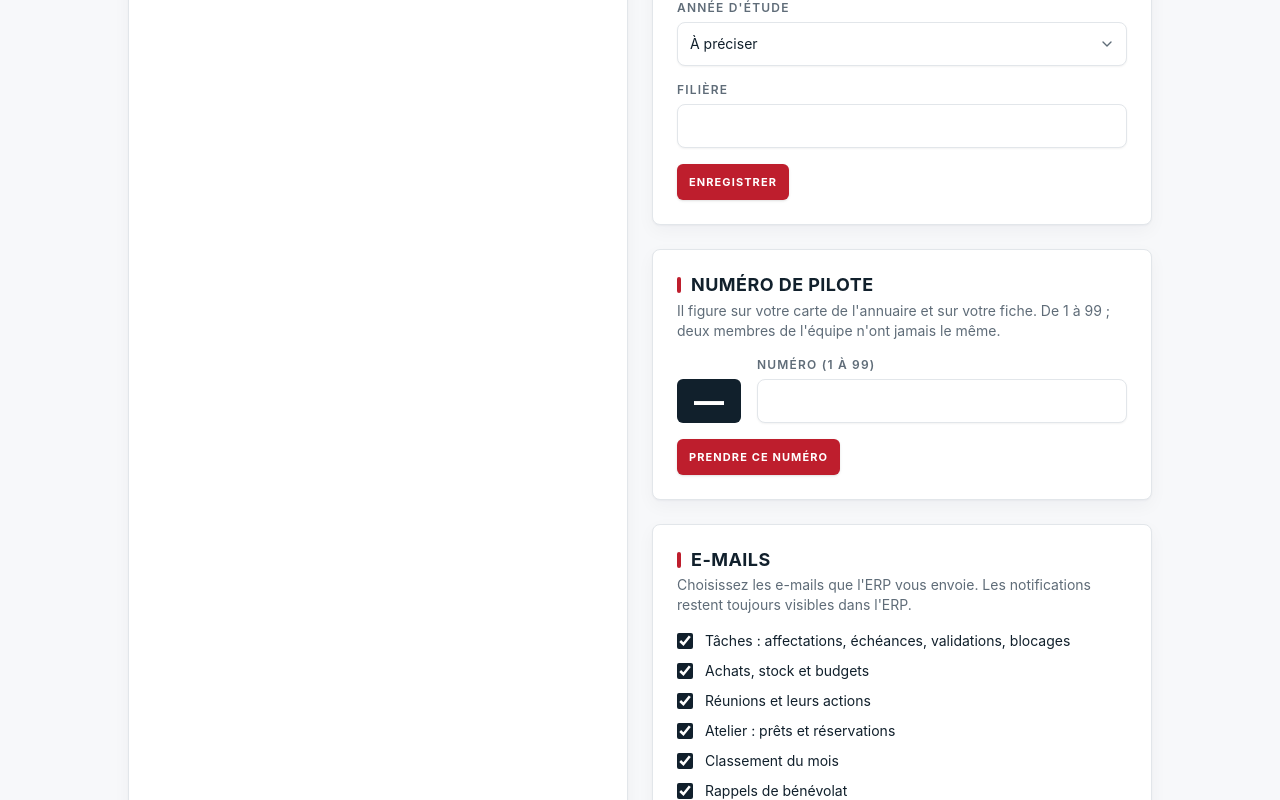
ProfileView › refuses a number outside 1 to 99 without asking the API
The image size is (1280, 800).
(page scrolled)
Type "120" into the number field labelled "Numéro (1 à 99)" at (942, 400), box [757,378,1127,422]
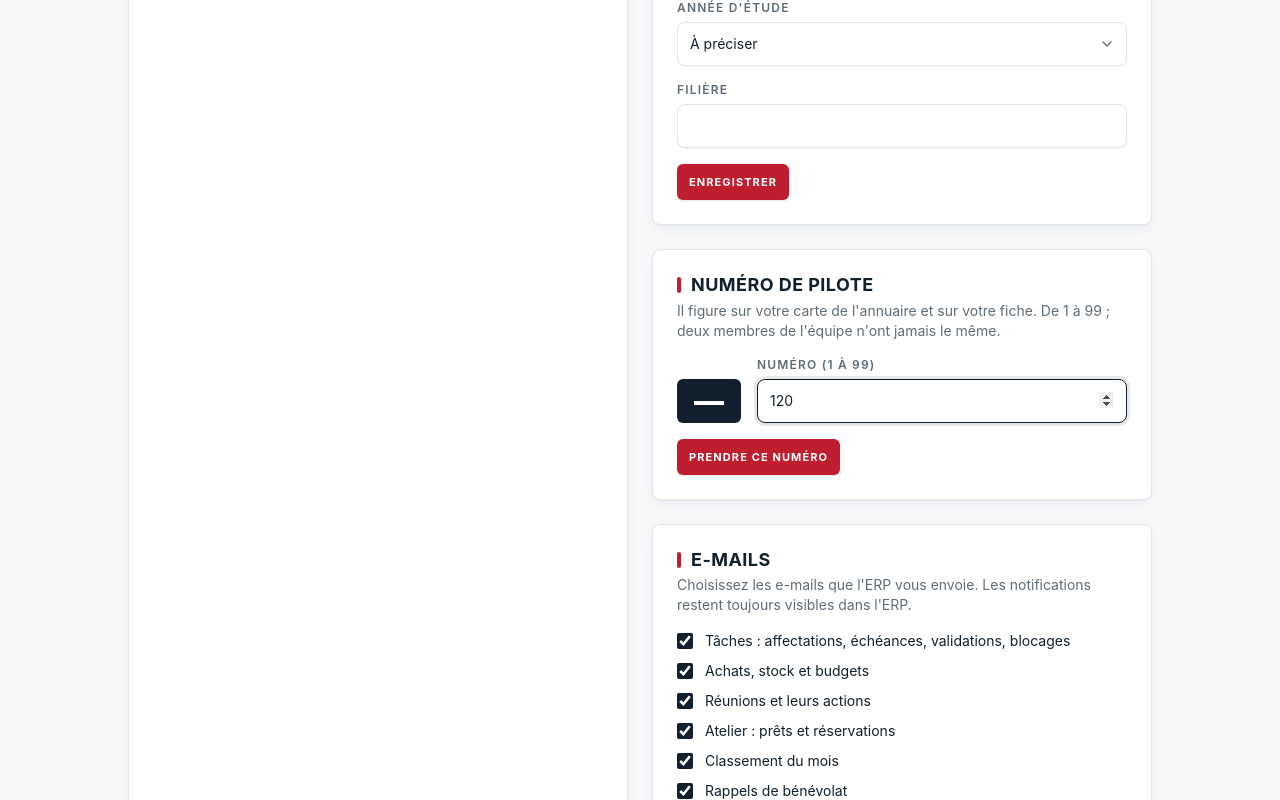
Click the button "Prendre ce numéro" at (759, 456), box [677,438,840,474]
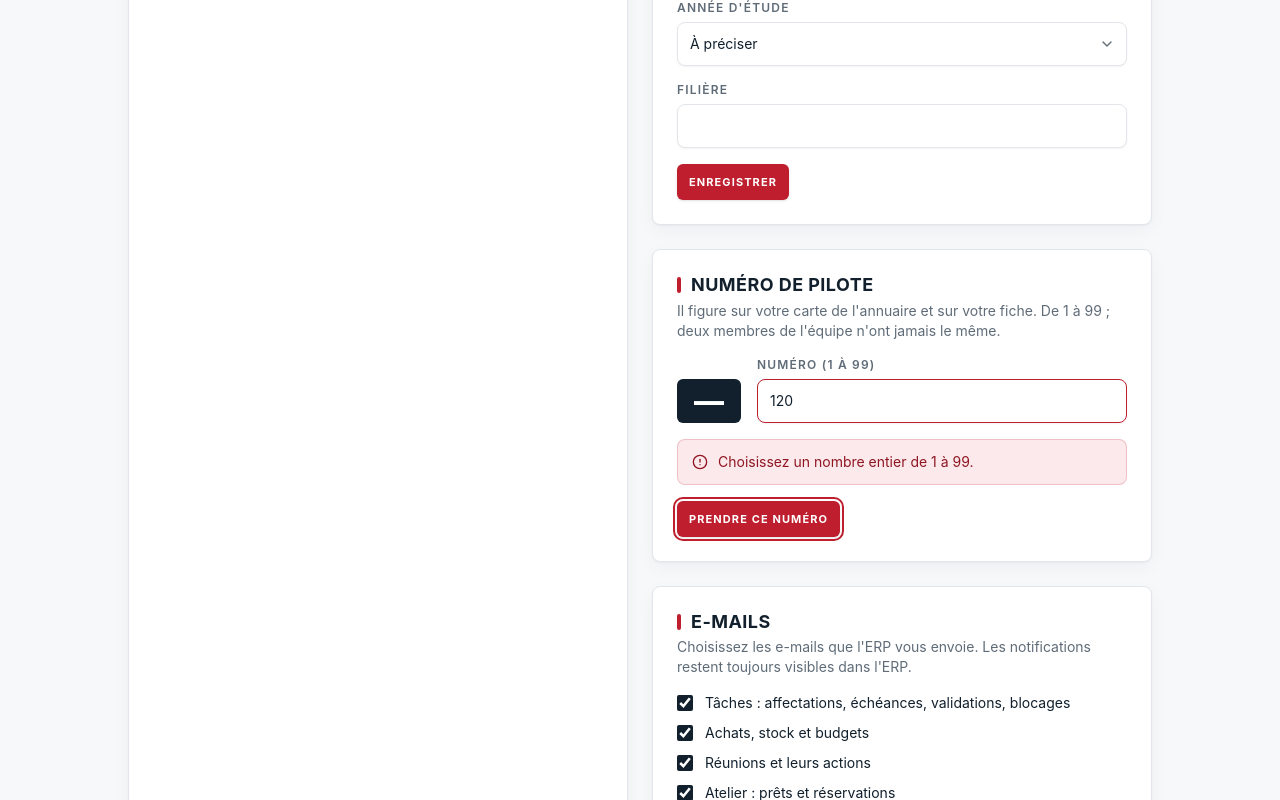
Check: the message reads "Choisissez un nombre entier de 1 à 99.", box [718,452,974,470]
